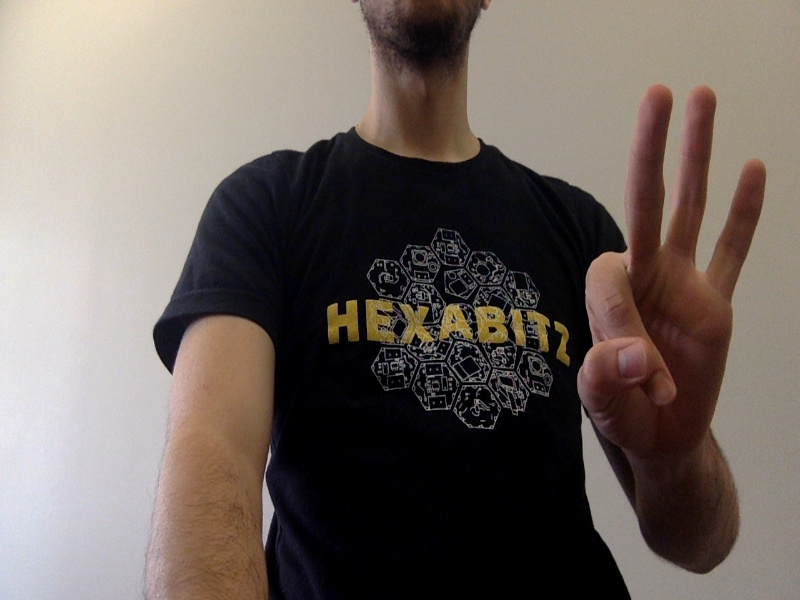3-hand: (586, 86, 766, 444)
